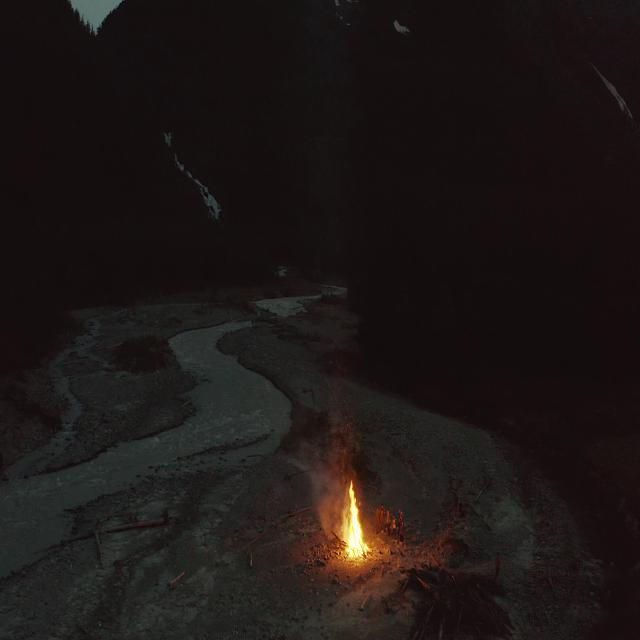Fire: (337, 477, 369, 563)
